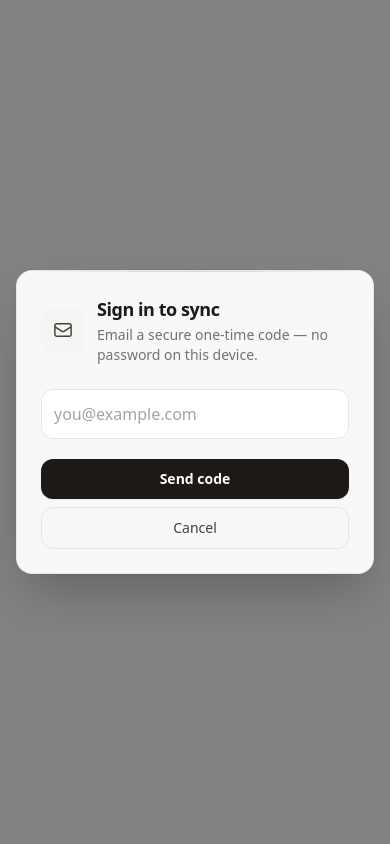
Test case: SendCodeModal › shows an error when sendCode fails
Step 1. Type "bad@example.com" into the field with placeholder "you@example.com" → {"x": 195, "y": 414}, box [41, 389, 349, 439]
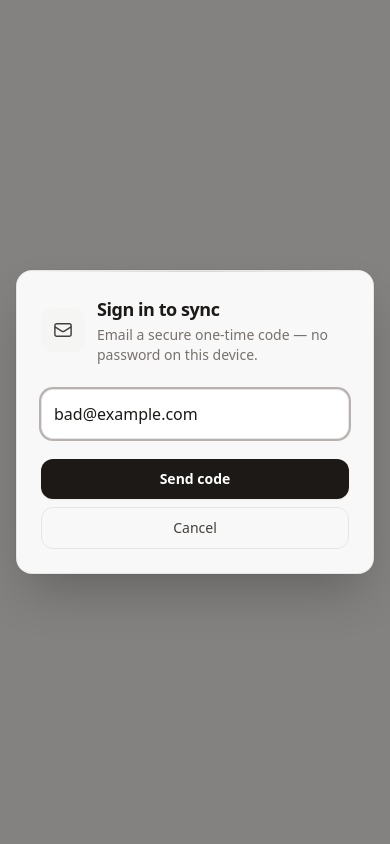
Step 2. Click the button "Send code" → {"x": 195, "y": 479}, box [41, 459, 349, 499]
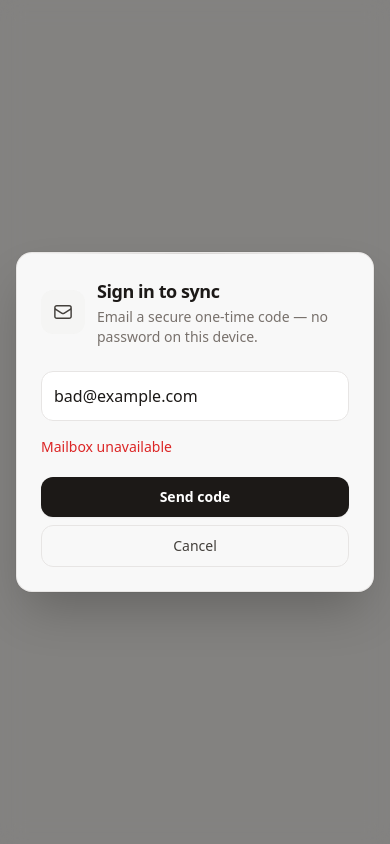
Check: the message reads "Mailbox unavailable", box [41, 437, 172, 456]
